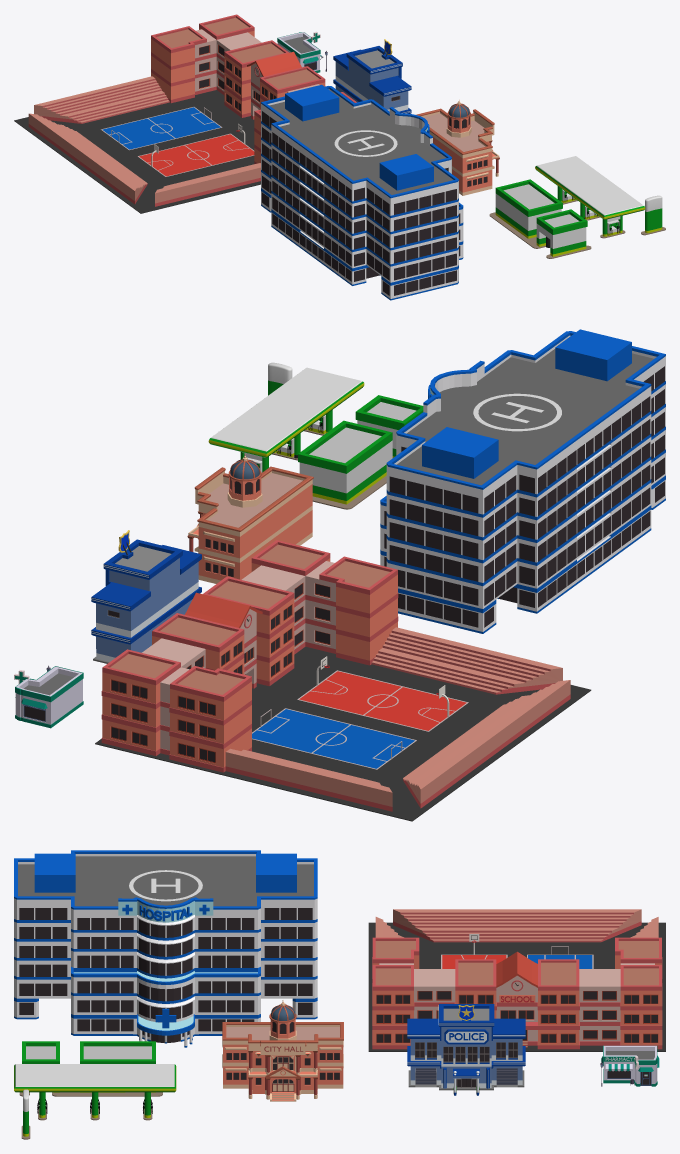
File: PublicBuildingsPackC.obj
3 renders of one model, top to bottom at view 1: azimuth 30°, elevation 25°; view 2: azimuth 150°, elevation 25°; view 3: azimuth 270°, elevation 25°, orthographic. The views are drawn at different scales.
Parts seen in each view (by area): view 1: PublicBuilding_Hospital_PublicBuilding_Hospital_Cylinder.050_Cyl, PublicBuilding_School_PublicBuilding_School_Cube.174_Cube.153, PublicBuilding_GasStation_PublicBuilding_GasStation_Cube.138_Cub, PublicBuilding_CityHall_PublicBuilding_CityHall_Cube.139_Cube.00, PublicBuilding_Police_PublicBuilding_Police_Cylinder.062_Cylinde, PublicBuilding_Pharmacy_PublicBuilding_Pharmacy_Cube.109_Cube.00; view 2: PublicBuilding_School_PublicBuilding_School_Cube.174_Cube.153, PublicBuilding_Hospital_PublicBuilding_Hospital_Cylinder.050_Cyl, PublicBuilding_GasStation_PublicBuilding_GasStation_Cube.138_Cub, PublicBuilding_CityHall_PublicBuilding_CityHall_Cube.139_Cube.00, PublicBuilding_Police_PublicBuilding_Police_Cylinder.062_Cylinde, PublicBuilding_Pharmacy_PublicBuilding_Pharmacy_Cube.109_Cube.00; view 3: PublicBuilding_Hospital_PublicBuilding_Hospital_Cylinder.050_Cyl, PublicBuilding_School_PublicBuilding_School_Cube.174_Cube.153, PublicBuilding_Police_PublicBuilding_Police_Cylinder.062_Cylinde, PublicBuilding_CityHall_PublicBuilding_CityHall_Cube.139_Cube.00, PublicBuilding_GasStation_PublicBuilding_GasStation_Cube.138_Cub, PublicBuilding_Pharmacy_PublicBuilding_Pharmacy_Cube.109_Cube.00.
Part boxes in pixels (x1=…): PublicBuilding_Hospital_PublicBuilding_Hospital_Cylinder.050_Cyl: x1=261, y1=84, x2=463, y2=300; PublicBuilding_School_PublicBuilding_School_Cube.174_Cube.153: x1=14, y1=14, x2=356, y2=213; PublicBuilding_GasStation_PublicBuilding_GasStation_Cube.138_Cub: x1=489, y1=156, x2=665, y2=258; PublicBuilding_CityHall_PublicBuilding_CityHall_Cube.139_Cube.00: x1=416, y1=99, x2=499, y2=195; PublicBuilding_Police_PublicBuilding_Police_Cylinder.062_Cylinde: x1=333, y1=39, x2=411, y2=113; PublicBuilding_Pharmacy_PublicBuilding_Pharmacy_Cube.109_Cube.00: x1=277, y1=31, x2=323, y2=72; PublicBuilding_School_PublicBuilding_School_Cube.174_Cube.153: x1=95, y1=540, x2=591, y2=821; PublicBuilding_Hospital_PublicBuilding_Hospital_Cylinder.050_Cyl: x1=380, y1=329, x2=665, y2=633; PublicBuilding_GasStation_PublicBuilding_GasStation_Cube.138_Cub: x1=208, y1=362, x2=423, y2=509; PublicBuilding_CityHall_PublicBuilding_CityHall_Cube.139_Cube.00: x1=187, y1=454, x2=313, y2=583; PublicBuilding_Police_PublicBuilding_Police_Cylinder.062_Cylinde: x1=91, y1=530, x2=201, y2=663; PublicBuilding_Pharmacy_PublicBuilding_Pharmacy_Cube.109_Cube.00: x1=14, y1=666, x2=83, y2=728; PublicBuilding_Hospital_PublicBuilding_Hospital_Cylinder.050_Cyl: x1=14, y1=850, x2=317, y2=1047; PublicBuilding_School_PublicBuilding_School_Cube.174_Cube.153: x1=368, y1=909, x2=665, y2=1051; PublicBuilding_Police_PublicBuilding_Police_Cylinder.062_Cylinde: x1=407, y1=1004, x2=525, y2=1095; PublicBuilding_CityHall_PublicBuilding_CityHall_Cube.139_Cube.00: x1=222, y1=1000, x2=343, y2=1101; PublicBuilding_GasStation_PublicBuilding_GasStation_Cube.138_Cub: x1=14, y1=1041, x2=176, y2=1139; PublicBuilding_Pharmacy_PublicBuilding_Pharmacy_Cube.109_Cube.00: x1=601, y1=1045, x2=659, y2=1086.
Size of what is drawn, in the model's own units: 38.85 by 11.27 by 49.49.
Materials: 1 (1 with a texture image).
